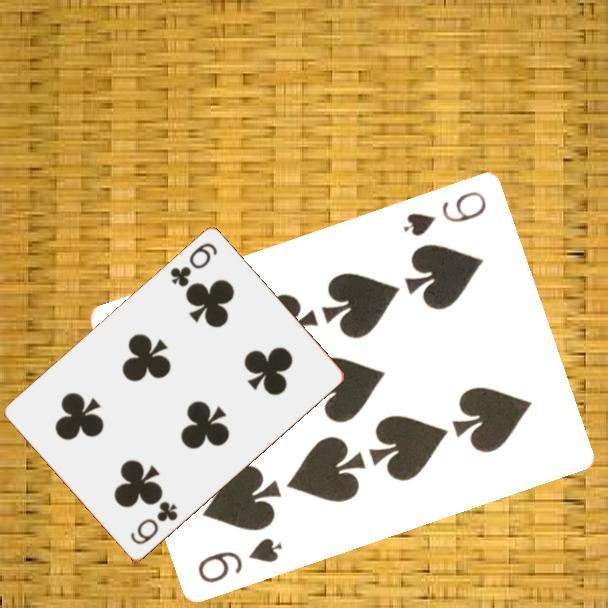c06: (127, 498, 181, 548), (166, 240, 220, 290)
s09: (194, 533, 286, 586), (400, 187, 490, 239)
